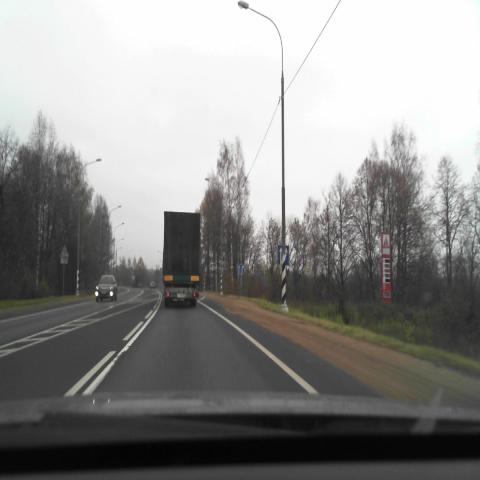5_15_3: (278, 245, 288, 265)
